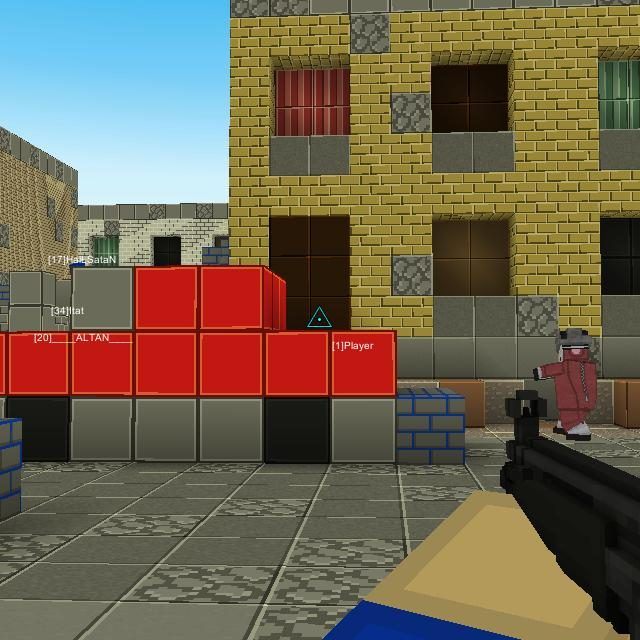enemy: (531, 326, 599, 442)
